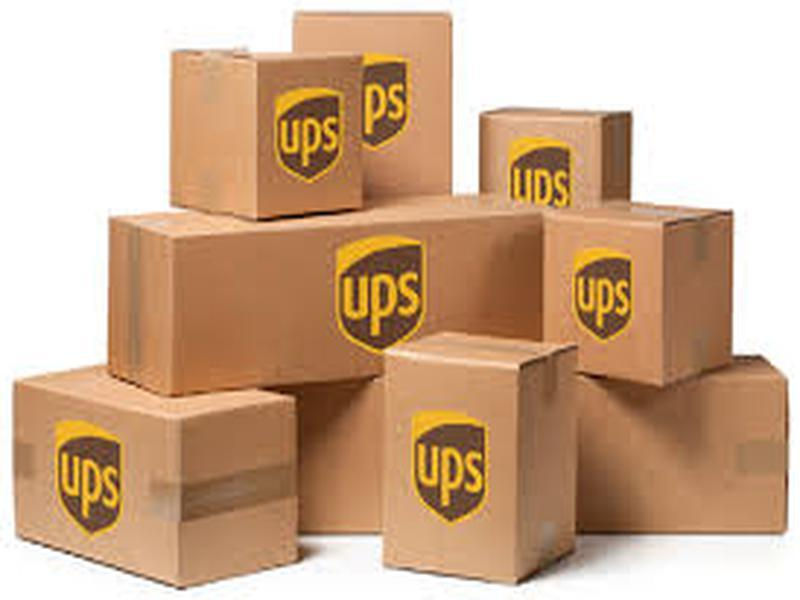package: (302, 339, 788, 544), (94, 202, 542, 403), (10, 356, 304, 585), (374, 322, 581, 586), (536, 194, 740, 390), (161, 40, 372, 225), (279, 13, 470, 202), (472, 99, 639, 212)
